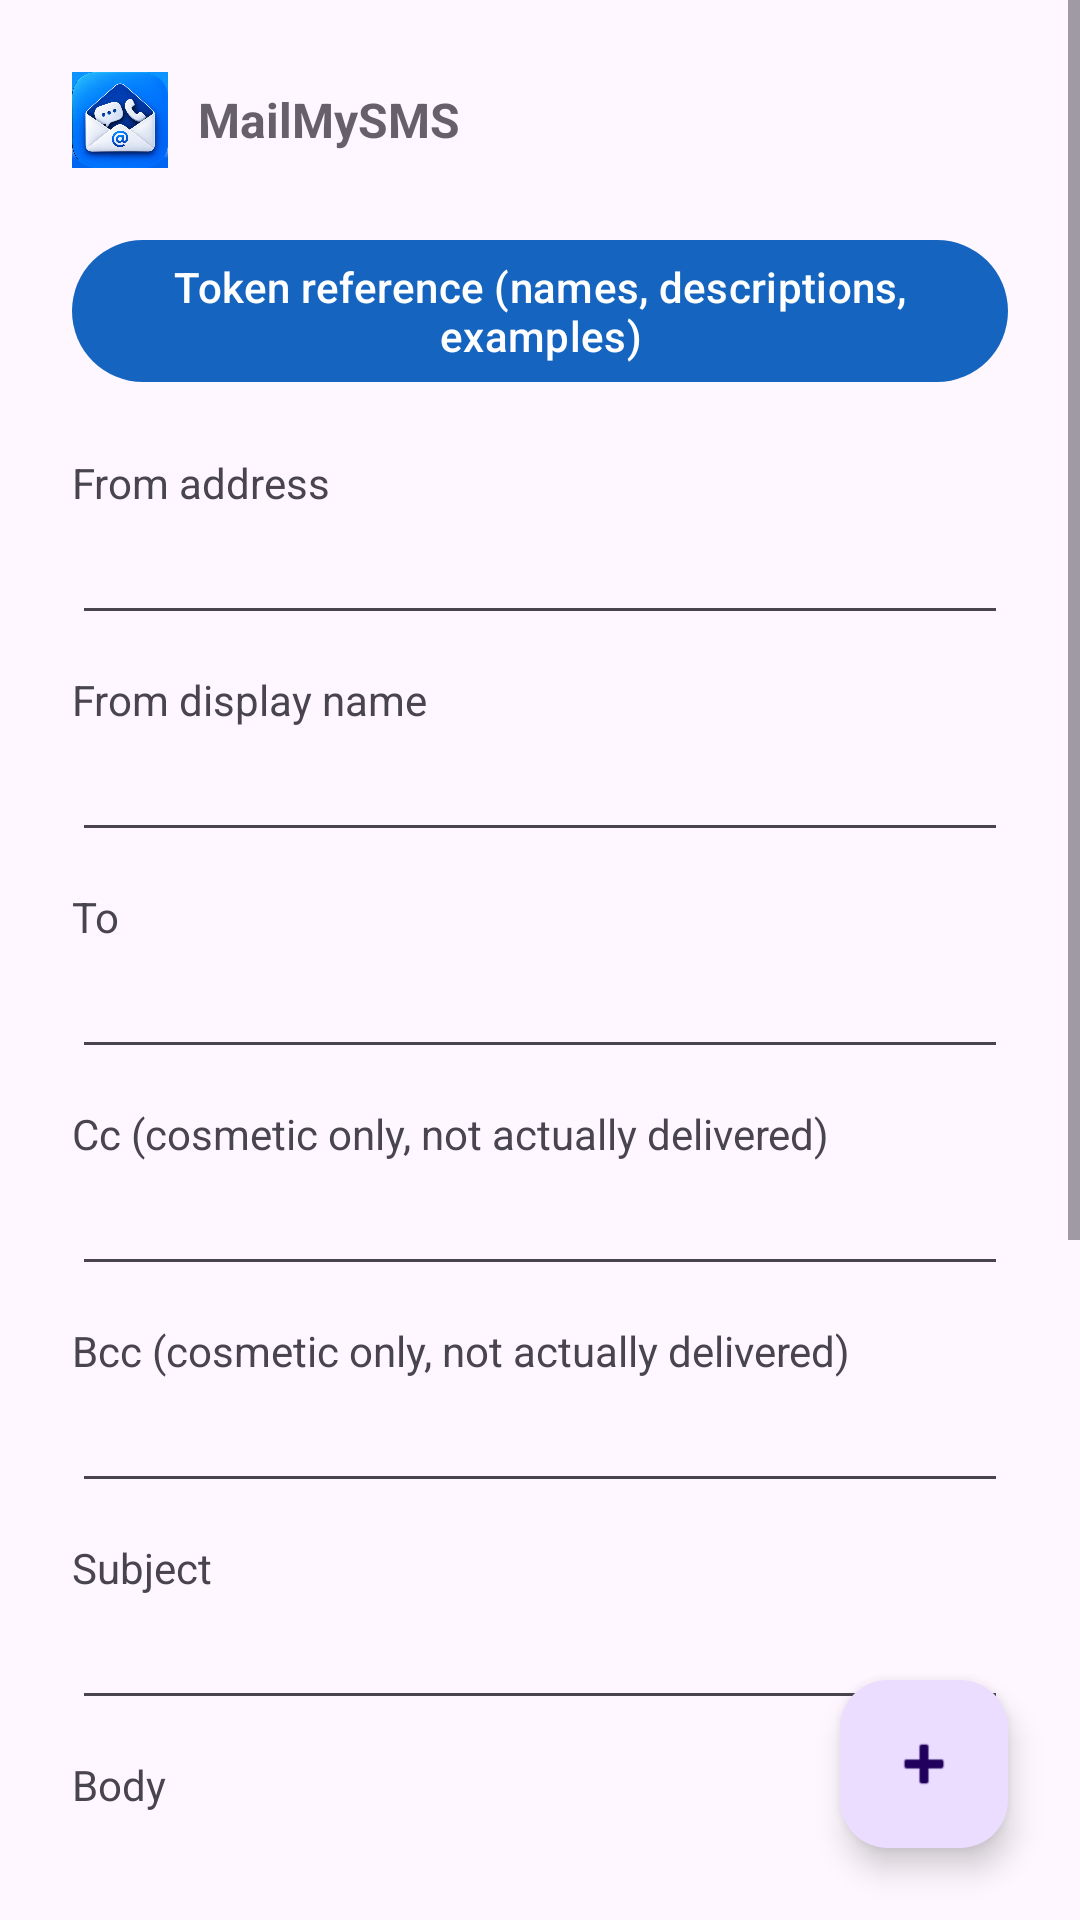

Where icons sit on this 1080*1920 app screen, as (x1, y1, x2, y2):
Insert token at cursor: (840, 1680, 1008, 1848)
